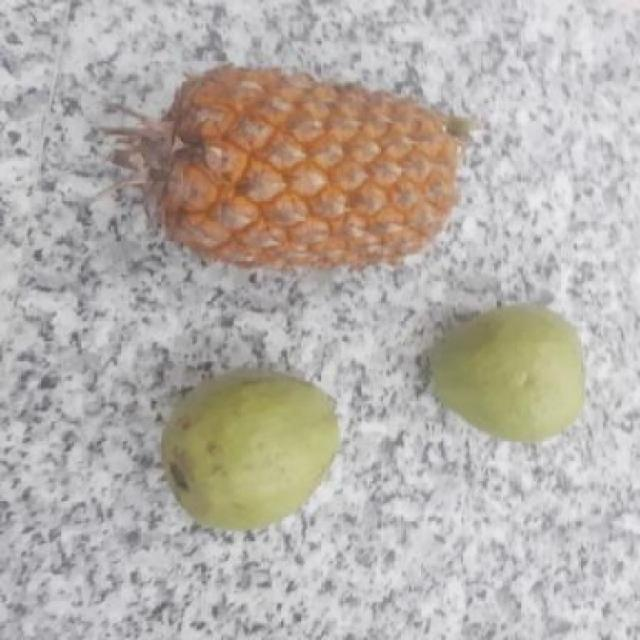guava: (156, 370, 338, 528), (414, 302, 588, 443)
pineapple: (102, 59, 482, 276)
